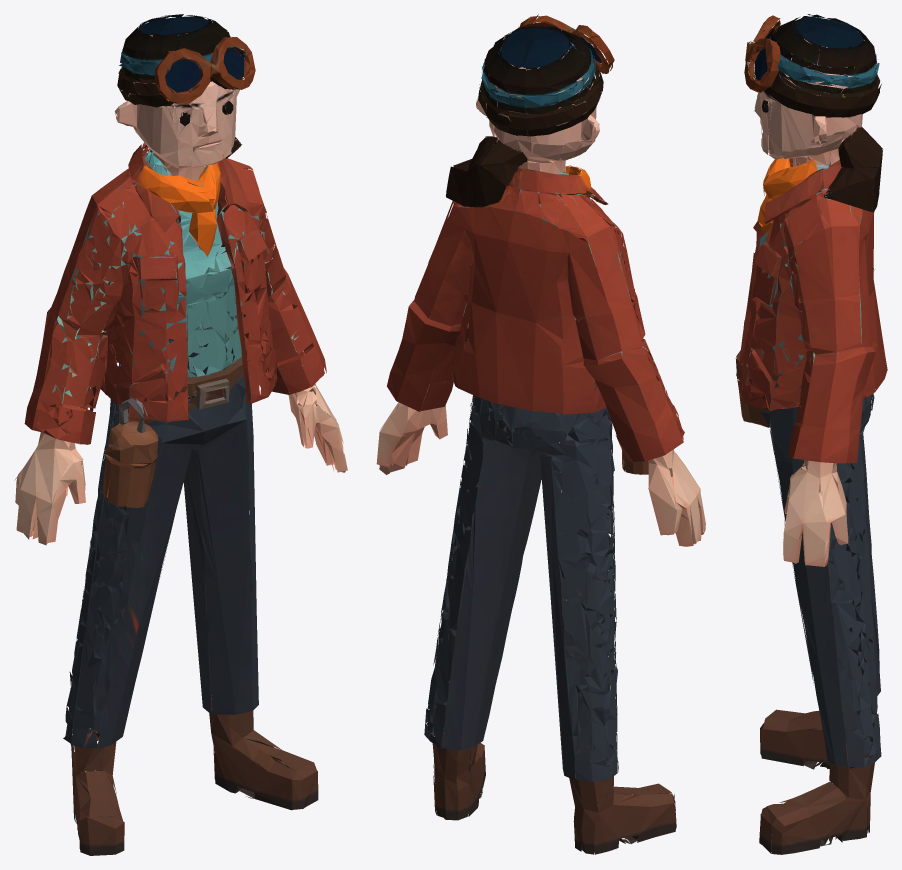
Rendered from habitant.glb.
3 views of the same model, side by side, from view 1: azimuth 30°, elevation 25°; view 2: azimuth 150°, elevation 25°; view 3: azimuth 270°, elevation 25° (orthographic).
Parts seen in each view (by area): view 1: world; view 2: world; view 3: world.
Boxes of the visible parts, x1,y1,x2,y2 form: world: (14, 14, 347, 855); world: (376, 14, 705, 854); world: (735, 14, 887, 854).
Bounding box in the file's own units: 0.4252 × 1 × 0.1786.
1 material, 1 textured.
